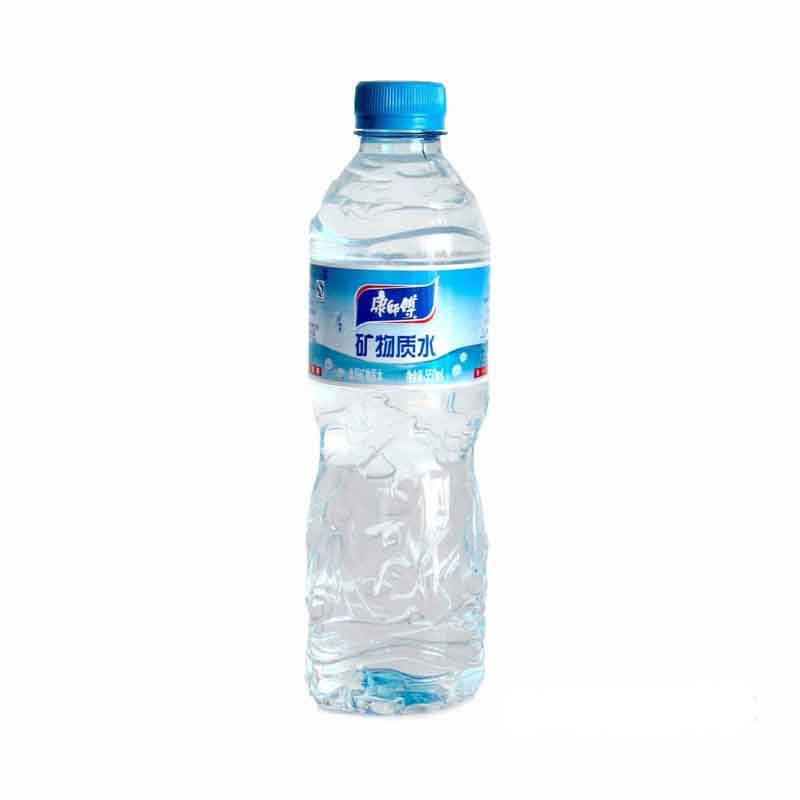amwater: (282, 52, 537, 744)
